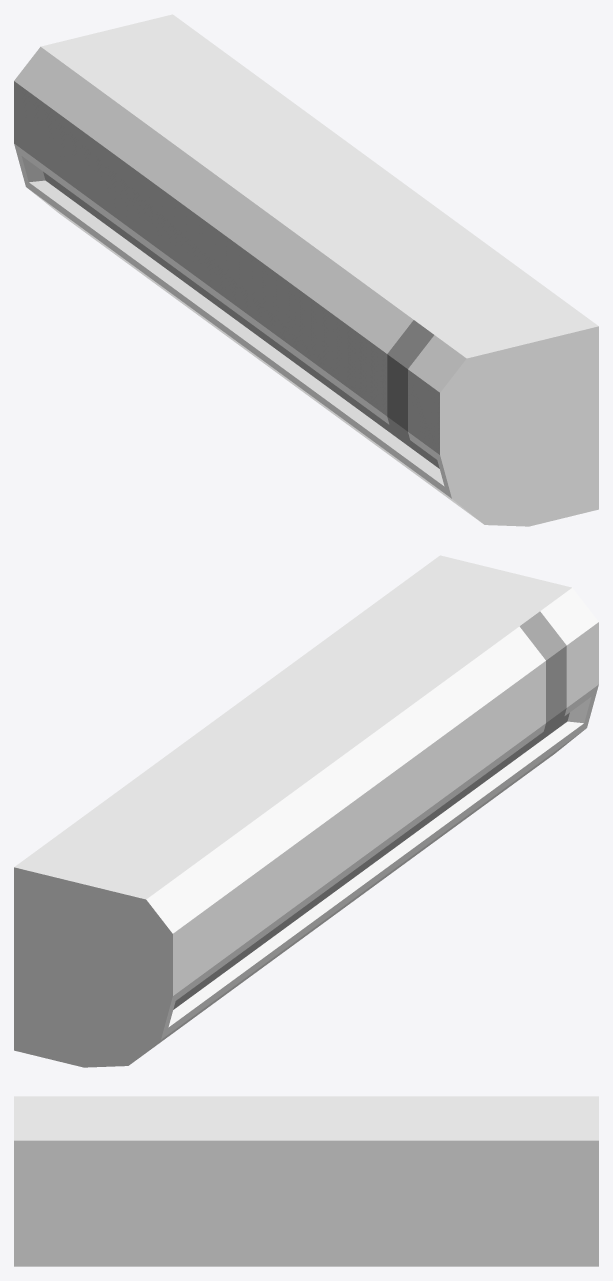
The model's file is Air Conditioner.fbx.
The picture shows the model from 3 angles, top to bottom: view 1: azimuth 30°, elevation 25°; view 2: azimuth 150°, elevation 25°; view 3: azimuth 270°, elevation 25°; orthographic projection. The views are drawn at different scales.
Visible parts, largest first — view 1: Air Conditioner; view 2: Air Conditioner; view 3: Air Conditioner.
Part boxes in pixels (box(x1,y1,x2,y2)): Air Conditioner: box(14, 14, 598, 526); Air Conditioner: box(14, 555, 598, 1067); Air Conditioner: box(14, 1096, 598, 1266).
Size of the model in its own units: 0.288 by 0.3176 by 1.34.
